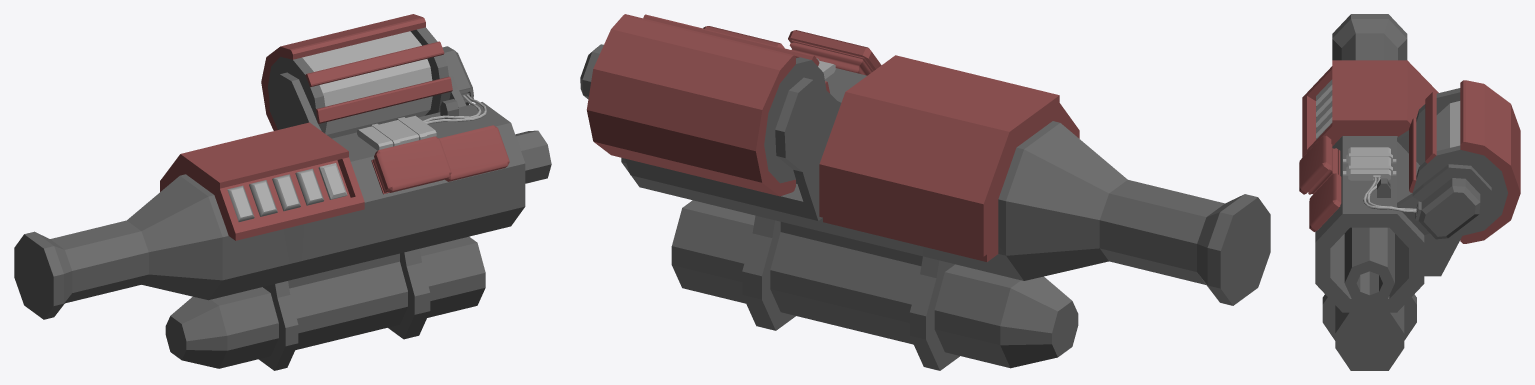
File: ProtoHookshot.fbx
3 renders of one model, left to right at view 1: azimuth 30°, elevation 25°; view 2: azimuth 150°, elevation 25°; view 3: azimuth 270°, elevation 25°, orthographic. The views are drawn at different scales.
Parts seen in each view (by area): view 1: Chassis, Light_Casing, pCylinder1, Heat_Coil2, SpoolOuterCase, Heat_Coil1, SpoolBar1, SpoolBar2, Battery, Light5, Light3, Light4 (+2 smaller); view 2: Chassis, Light_Casing, SpoolOuterCase, Heat_Coil2, SpoolBar2; view 3: Chassis, Light_Casing, SpoolOuterCase, Heat_Coil2, Battery, Heat_Coil1, pCylinder1, SpoolBar2, SpoolBar1, Cable_2, Light4, Light3.
Part boxes in pixels (bbox=[...]): Chassis: bbox=[14, 27, 551, 370]; Light_Casing: bbox=[160, 122, 364, 240]; pCylinder1: bbox=[302, 31, 432, 138]; Heat_Coil2: bbox=[371, 136, 451, 194]; SpoolOuterCase: bbox=[261, 14, 425, 130]; Heat_Coil1: bbox=[439, 125, 509, 181]; SpoolBar1: bbox=[316, 76, 452, 123]; SpoolBar2: bbox=[305, 41, 444, 87]; Battery: bbox=[357, 115, 436, 150]; Light5: bbox=[318, 163, 347, 199]; Light3: bbox=[272, 174, 300, 211]; Light4: bbox=[295, 168, 324, 205]; Chassis: bbox=[580, 44, 1270, 370]; Light_Casing: bbox=[819, 55, 1079, 261]; SpoolOuterCase: bbox=[586, 14, 795, 196]; Heat_Coil2: bbox=[788, 30, 881, 75]; SpoolBar2: bbox=[643, 14, 819, 65]; Chassis: bbox=[1315, 14, 1507, 370]; Light_Casing: bbox=[1302, 60, 1438, 157]; SpoolOuterCase: bbox=[1460, 80, 1520, 243]; Heat_Coil2: bbox=[1299, 135, 1340, 194]; Battery: bbox=[1343, 147, 1396, 180]; Heat_Coil1: bbox=[1309, 173, 1341, 231]; pCylinder1: bbox=[1436, 101, 1460, 150]; SpoolBar2: bbox=[1425, 91, 1436, 163]; SpoolBar1: bbox=[1409, 118, 1416, 192]; Cable_2: bbox=[1363, 177, 1416, 212]; Light4: bbox=[1316, 112, 1332, 138]; Light3: bbox=[1316, 101, 1332, 127].
Size of the model in its own units: 0.7641 by 0.369 by 0.305.
